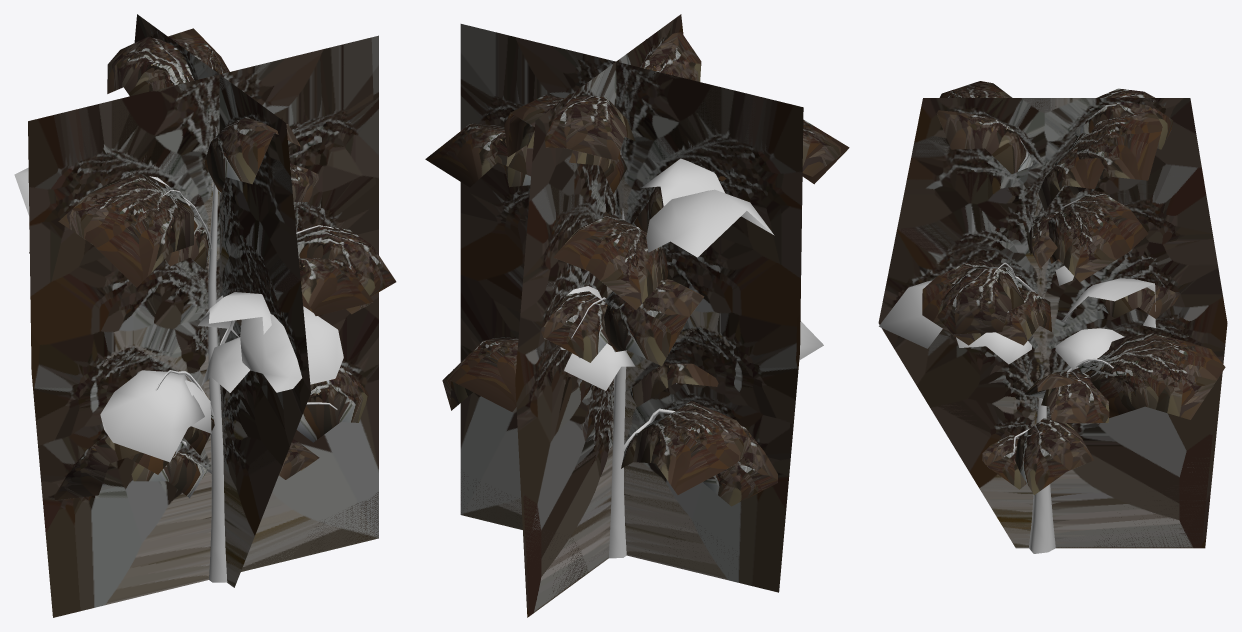
The model's file is Birch_bush2.fbx.
The picture shows the model from 3 angles, left to right: view 1: azimuth 30°, elevation 25°; view 2: azimuth 150°, elevation 25°; view 3: azimuth 270°, elevation 25°; orthographic projection. The views are drawn at different scales.
Parts seen in each view (by area): view 1: Billboard, LOD0; view 2: Billboard, LOD0; view 3: Billboard, LOD0.
Part boxes in pixels (x1,y1,x2,y2): Billboard: (28,14,378,617); LOD0: (14,28,396,582); Billboard: (460,14,803,617); LOD0: (425,32,849,558); Billboard: (878,98,1227,548); LOD0: (879,81,1225,553).
Size of what is drawn, in the model's own units: 303 by 415 by 292.
